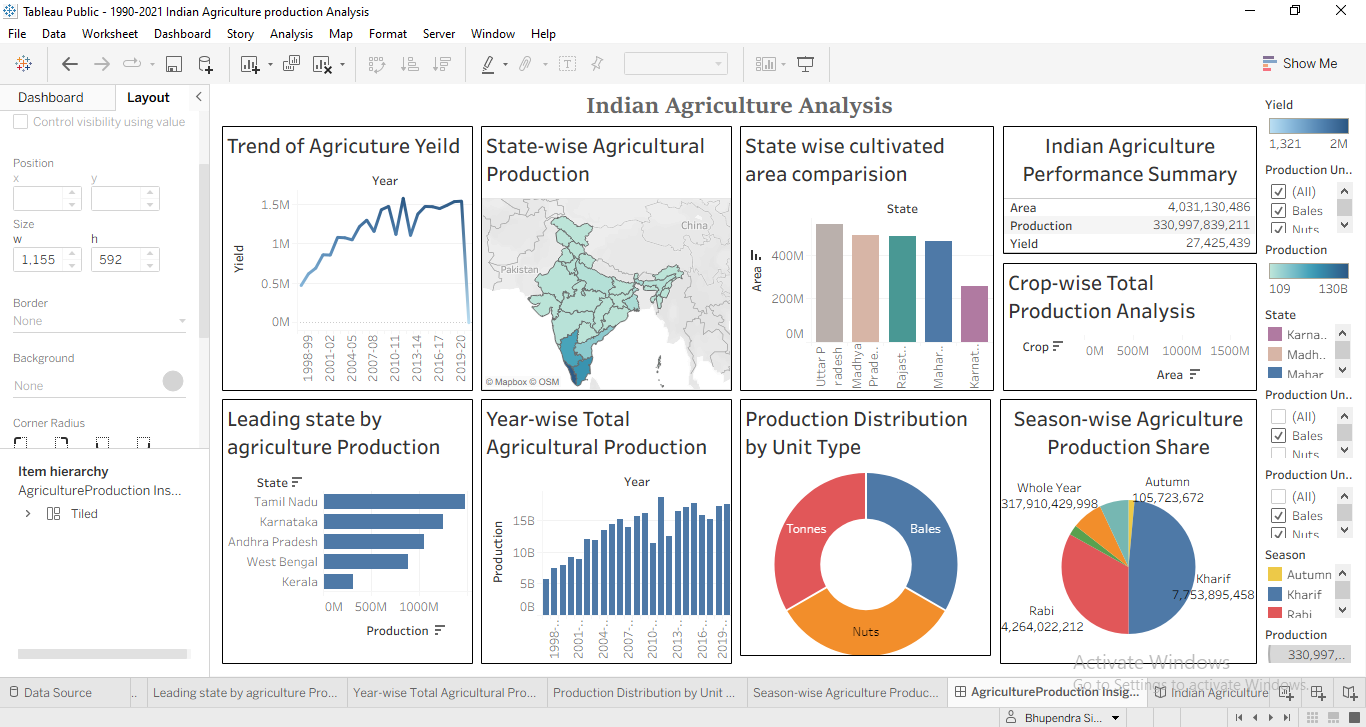

The page's visual inventory and layout, read from the dashboard file:
{"tool":"tableau","page":{"name":"AgricultureProduction Insight","canvas":[1000,1000],"units":"permille","ordinal":0},"visuals":[{"type":"text","box":[6.9,13.5,903,50.9]},{"type":"legend","title":"Trend of Agricuture Yeild","param":"[federated.0mu3rnm0kn72b018ahri81pdugjo].[sum:Yield:qk]","box":[910,13.5,83.1,109.8]},{"type":"worksheet","title":"Trend of Agricuture Yeild","mark":"Line","rows":["Yield"],"cols":["Year"],"box":[6.9,64.4,224.5,461.1]},{"type":"worksheet","title":"State-wise Agricultural Production","mark":"Automatic","box":[231.4,64.4,224.5,461.1]},{"type":"worksheet","title":"State wise cultivated area comparision","mark":"Bar","rows":["Area"],"cols":["State"],"box":[455.8,64.4,227.1,461.1]},{"type":"worksheet","title":"Indian Agriculture Performance Summary","mark":"Automatic","box":[682.9,64.4,227.1,230.5]},{"type":"filter","title":"State-wise Agricultural Production","param":"[federated.0mu3rnm0kn72b018ahri81pdugjo].[none:Production Units:nk]","box":[910,123.3,83.1,135.1]},{"type":"legend","title":"State-wise Agricultural Production","param":"[federated.0mu3rnm0kn72b018ahri81pdugjo].[sum:Production:qk]","box":[910,258.4,83.1,109.8]},{"type":"worksheet","title":"Cultivated Area by Crop","mark":"Bar","rows":["Crop"],"cols":["Area"],"box":[682.9,294.9,227.1,230.5]},{"type":"legend","title":"State wise cultivated area comparision","param":"[federated.0mu3rnm0kn72b018ahri81pdugjo].[none:State:nk]","box":[910,368.2,83.1,135.1]},{"type":"filter","title":"Leading state by agriculture Production","param":"[federated.0mu3rnm0kn72b018ahri81pdugjo].[none:Production Units:nk]","box":[910,503.4,83.1,135.1]},{"type":"worksheet","title":"Leading state by agriculture Production","mark":"Automatic","rows":["State"],"cols":["Production"],"box":[6.9,525.4,224.5,461.1]},{"type":"worksheet","title":"Year-wise Total Agricultural Production","mark":"Bar","rows":["Production"],"cols":["Year"],"box":[231.4,525.4,224.5,461.1]},{"type":"worksheet","title":"Production Distribution by Unit Type","mark":"VizExtension","box":[455.8,525.4,224.5,447.6]},{"type":"worksheet","title":"Season-wise Agriculture Production Share","mark":"Pie","box":[680.3,525.4,229.7,461.1]},{"type":"filter","title":"Year-wise Total Agricultural Production","param":"[federated.0mu3rnm0kn72b018ahri81pdugjo].[none:Production Units:nk]","box":[910,638.5,83.1,135.1]},{"type":"legend","title":"Season-wise Agriculture Production Share","param":"[federated.0mu3rnm0kn72b018ahri81pdugjo].[none:season:nk]","box":[910,773.6,83.1,135.1]},{"type":"legend","title":"Season-wise Agriculture Production Share","param":"[federated.0mu3rnm0kn72b018ahri81pdugjo].[sum:Production:qk]","box":[910,908.8,83.1,77.7]}]}

Visuals, with their boxes on the dashboard's canvas, which has no fixed pixel size, in thousandths of its width and height (x1, y1, x2, y2). These are canvas units, not pixel positions in the 1366x727 screenshot, which may show the page scaled, cropped or inside an application window:
text: crop(7, 14, 910, 64)
"Trend of Agricuture Yeild" legend: crop(910, 14, 993, 123)
"Trend of Agricuture Yeild" worksheet (Line marks): crop(7, 64, 231, 526)
"State-wise Agricultural Production" worksheet: crop(231, 64, 456, 526)
"State wise cultivated area comparision" worksheet (Bar marks): crop(456, 64, 683, 526)
"Indian Agriculture Performance Summary" worksheet: crop(683, 64, 910, 295)
"State-wise Agricultural Production" filter: crop(910, 123, 993, 258)
"State-wise Agricultural Production" legend: crop(910, 258, 993, 368)
"Cultivated Area by Crop" worksheet (Bar marks): crop(683, 295, 910, 525)
"State wise cultivated area comparision" legend: crop(910, 368, 993, 503)
"Leading state by agriculture Production" filter: crop(910, 503, 993, 638)
"Leading state by agriculture Production" worksheet: crop(7, 525, 231, 986)
"Year-wise Total Agricultural Production" worksheet (Bar marks): crop(231, 525, 456, 986)
"Production Distribution by Unit Type" worksheet (VizExtension marks): crop(456, 525, 680, 973)
"Season-wise Agriculture Production Share" worksheet (Pie marks): crop(680, 525, 910, 986)
"Year-wise Total Agricultural Production" filter: crop(910, 638, 993, 774)
"Season-wise Agriculture Production Share" legend: crop(910, 774, 993, 909)
"Season-wise Agriculture Production Share" legend: crop(910, 909, 993, 986)
